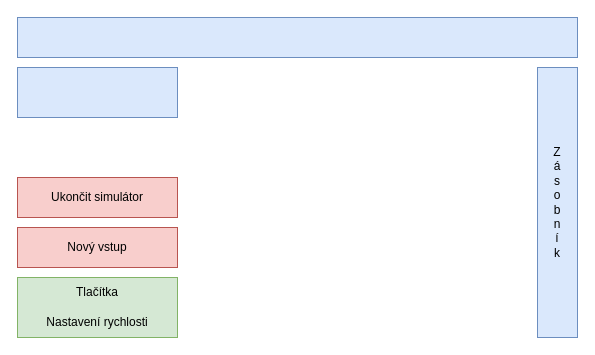
This 595x355 diagram has some shape labels left out. The shapes that lost their labels are listed below. From the top down, each one's box as (x1, y1, x2, y2) in pixels, then its label:
(16, 16, 578, 58): Vstupní páska
(16, 66, 178, 118): Řídící jednotka
